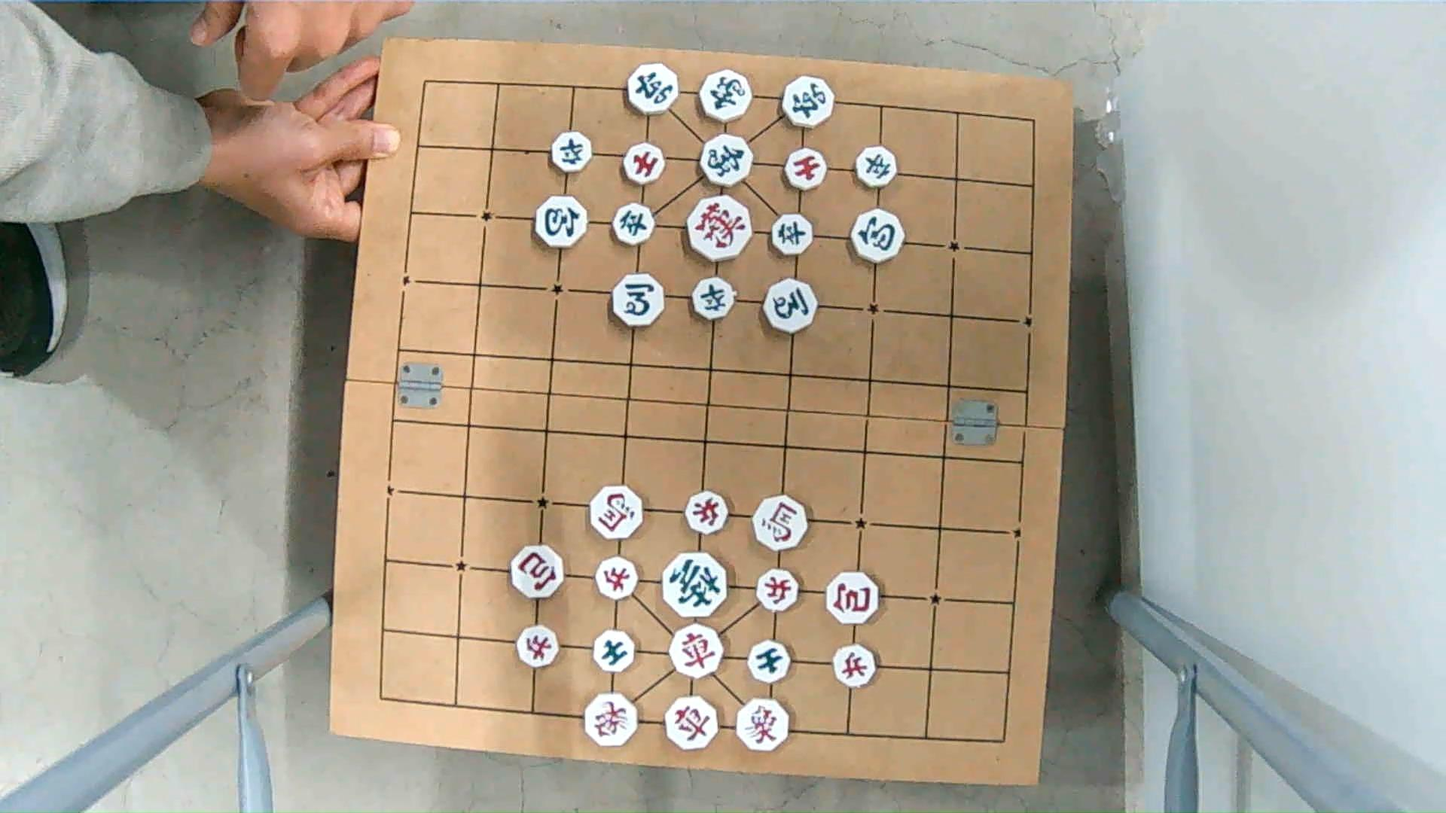cha_green: (779, 78, 837, 126), (624, 68, 682, 114)
cha_red: (662, 698, 721, 748), (668, 629, 722, 676)
jol_green: (689, 279, 737, 318), (548, 135, 593, 172), (853, 150, 898, 187), (772, 212, 812, 253), (614, 204, 655, 243)
jol_red: (755, 570, 803, 610), (592, 559, 641, 597), (831, 648, 878, 687), (514, 627, 562, 665), (683, 492, 729, 531)
ma_green: (761, 282, 821, 333), (608, 276, 665, 326)
ma_red: (752, 493, 808, 550), (587, 489, 645, 538)
po_green: (849, 211, 906, 262), (532, 197, 588, 246)
po_red: (508, 548, 567, 597), (825, 573, 882, 622)
sa_green: (746, 639, 793, 684), (591, 633, 638, 672)
sa_red: (783, 152, 831, 190), (623, 144, 665, 184)
sang_green: (697, 138, 755, 187), (700, 70, 752, 120)
sang_red: (580, 696, 640, 745), (734, 700, 791, 751)
wang_green: (660, 555, 729, 614)
wang_red: (688, 199, 759, 254)
